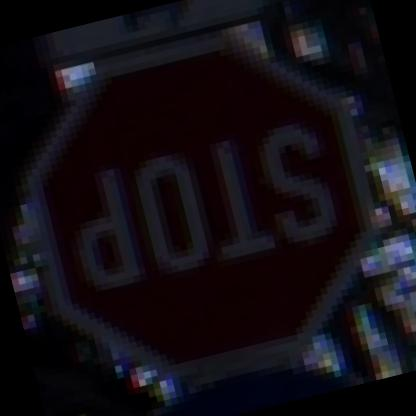stop: (8, 12, 415, 412)
